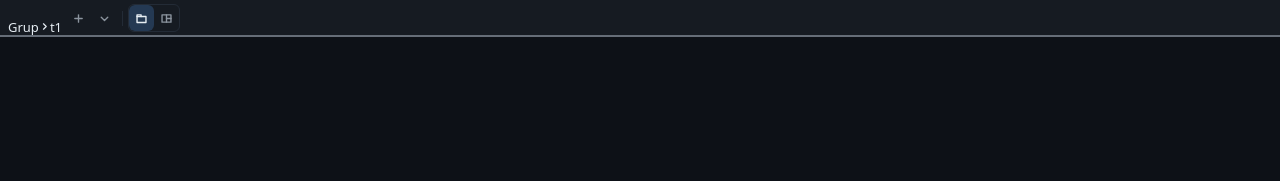
Test: profil menüsü › profiller ve düzenleme öğesi listeleniyor
Click the button named "Profil seçerek yeni sekme" at (104, 18), box [92,5,117,31]
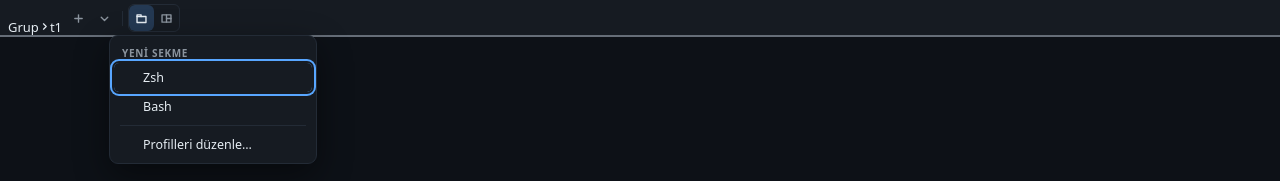
Expected: the text "Zsh" is shown, [143,69,164,86]
Expected: the text "Bash" is shown, [143,98,172,115]
